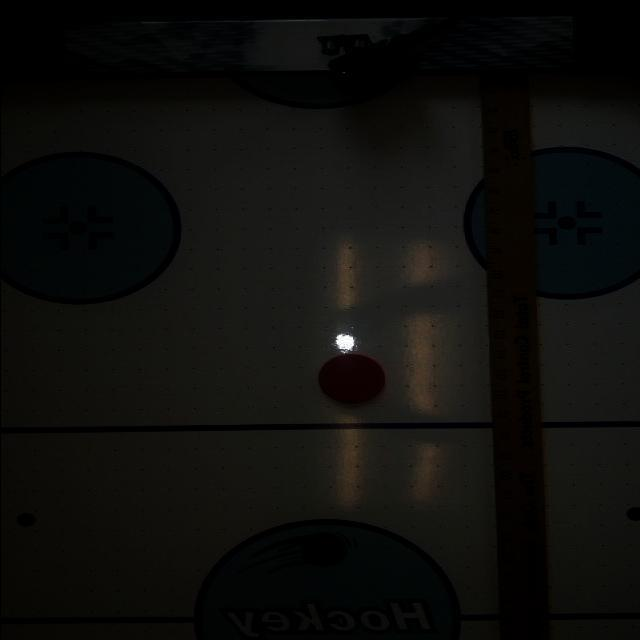chip: (314, 351, 394, 409)
